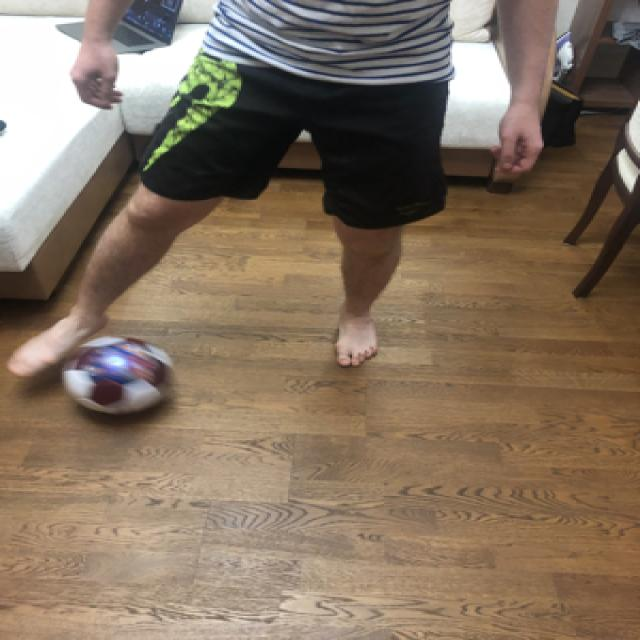soccer_ball: (60, 333, 173, 413)
